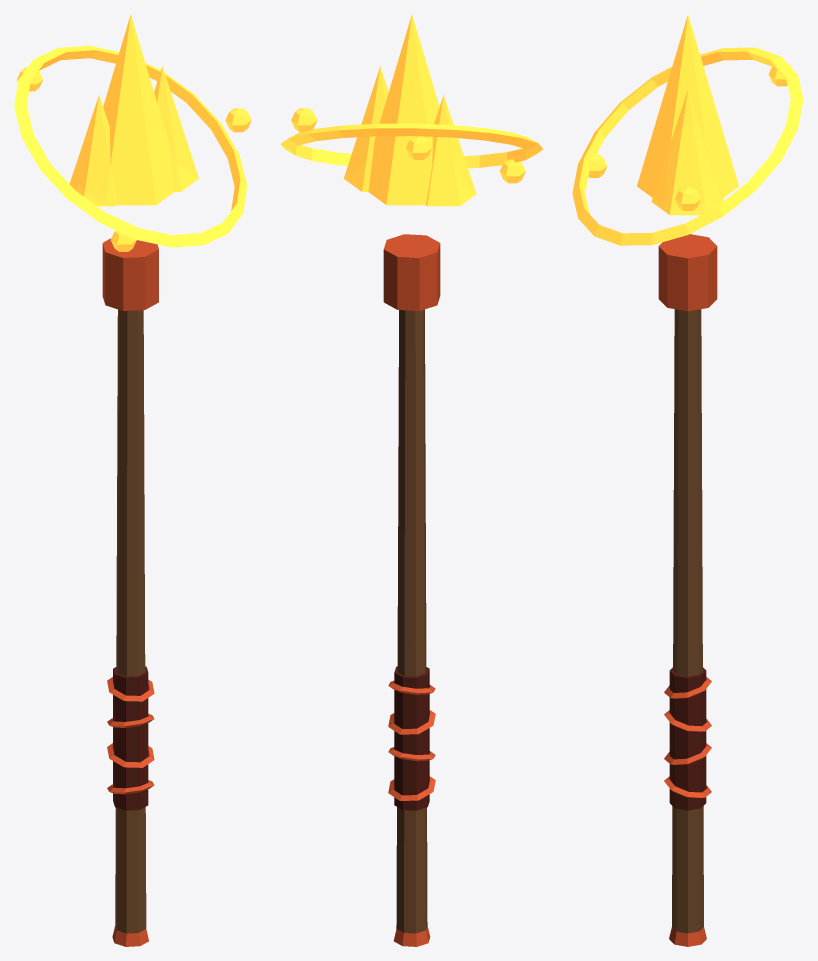
Rendered from weapon_staff_inferno_v01.glb.
The picture shows the model from 3 angles, left to right: view 1: azimuth 30°, elevation 25°; view 2: azimuth 150°, elevation 25°; view 3: azimuth 270°, elevation 25°; orthographic projection.
Visible parts, largest first — view 1: weapon_staff_inferno; view 2: weapon_staff_inferno; view 3: weapon_staff_inferno.
Boxes of the visible parts, <box> form: weapon_staff_inferno: <box>14,14,251,946</box>; weapon_staff_inferno: <box>280,15,543,946</box>; weapon_staff_inferno: <box>572,15,803,946</box>.
Bounding box in the file's own units: 0.3575 × 1.4 × 0.3159.
